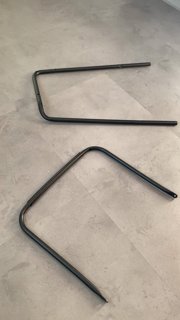C pipe: (18, 146, 180, 306)
U pipe: (31, 61, 179, 131)
